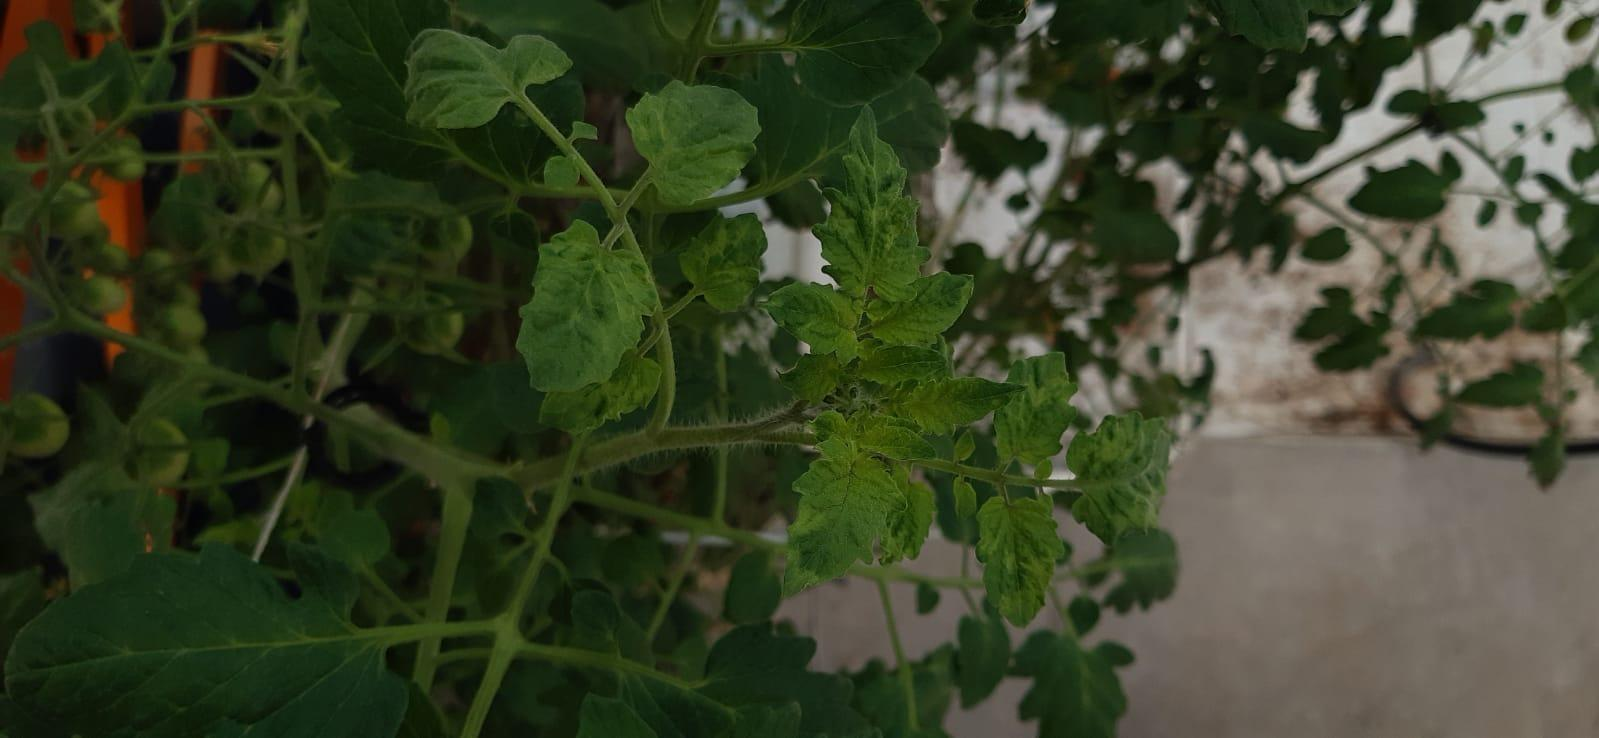Rugose leaf: (812, 106, 928, 302), (784, 437, 902, 595), (978, 496, 1062, 626), (993, 355, 1074, 463), (679, 214, 766, 311), (764, 283, 859, 359), (896, 377, 1021, 432), (826, 413, 933, 460)
Rugose stem: (575, 274, 811, 472), (511, 80, 647, 264), (901, 458, 1080, 504), (620, 168, 650, 211)
